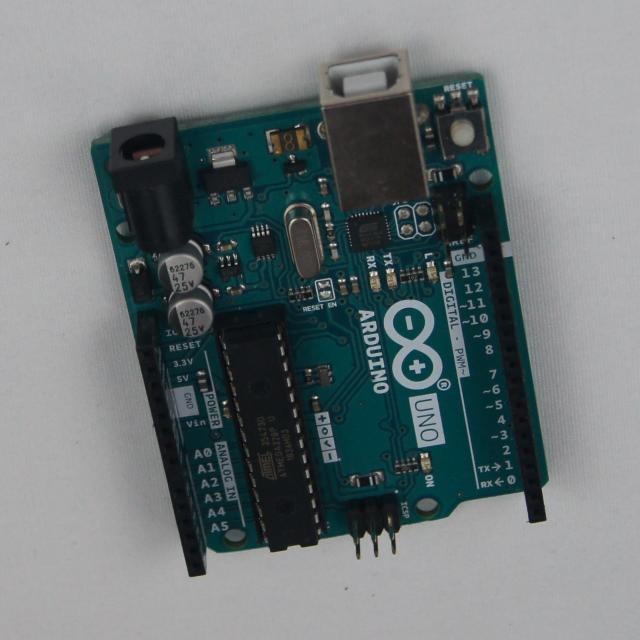Arduino Uno -Green-: (92, 52, 548, 576)
